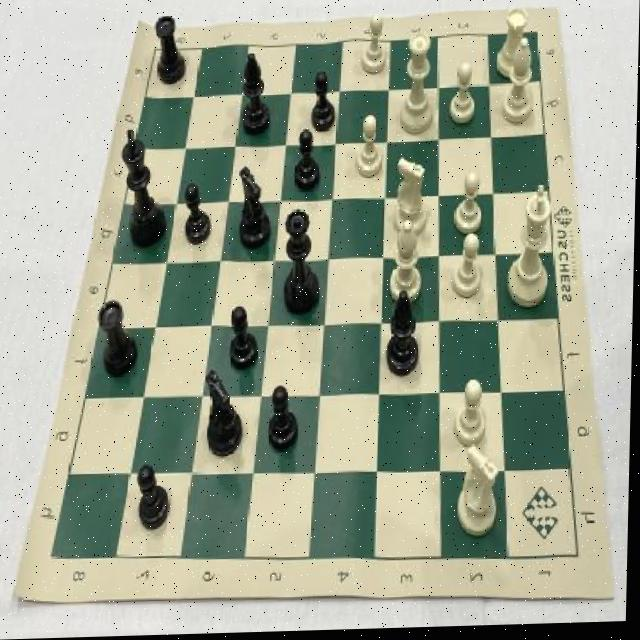bishop: (203, 367, 247, 468), (381, 290, 427, 382), (235, 47, 278, 144), (235, 163, 274, 253)
black-bishop: (118, 121, 173, 254)
black-knight: (136, 459, 175, 537), (267, 383, 305, 458), (226, 305, 264, 379), (183, 178, 217, 250), (306, 72, 342, 138), (293, 126, 324, 197)
black-pawn: (281, 206, 324, 323)
black-queen: (95, 295, 142, 381), (152, 11, 191, 92)
black-rook: (499, 40, 538, 130), (389, 222, 425, 308)
white-bishop: (500, 184, 557, 317)
white-king: (452, 448, 504, 545), (392, 156, 432, 243)
white-knight: (453, 378, 492, 454), (451, 233, 487, 307), (452, 170, 486, 243), (445, 63, 479, 133), (354, 114, 386, 186), (359, 13, 387, 85)
white-pawn: (395, 27, 440, 143)
white-queen: (493, 5, 532, 82)
